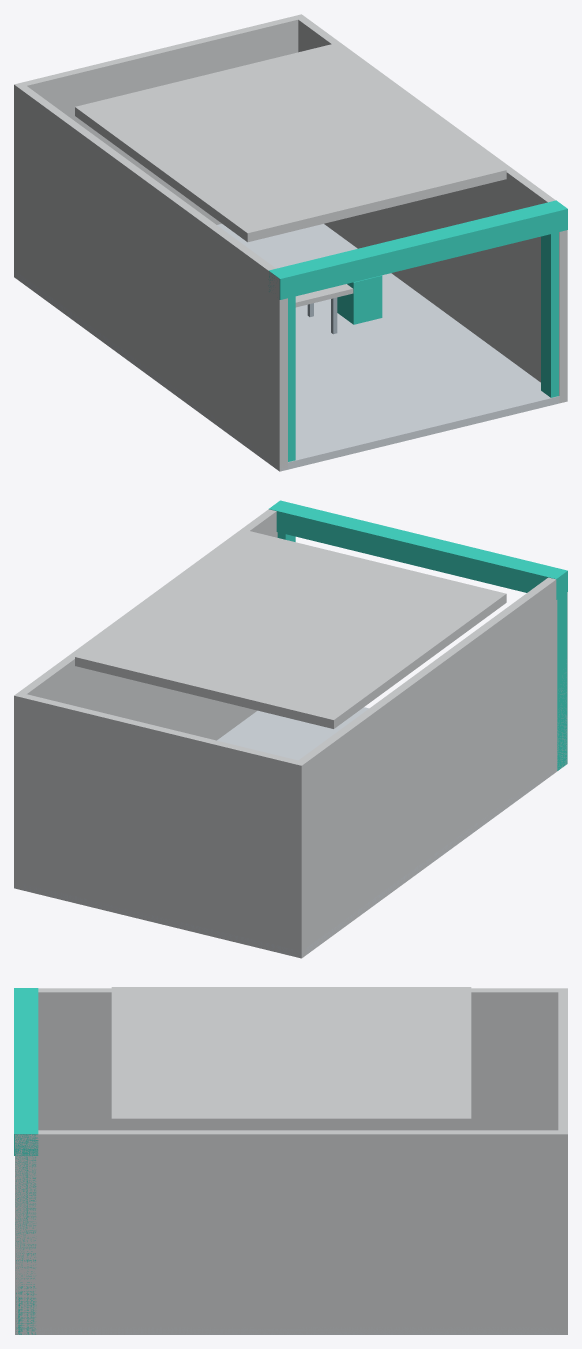
The picture shows the model from 3 angles, top to bottom: view 1: azimuth 30°, elevation 25°; view 2: azimuth 150°, elevation 25°; view 3: azimuth 270°, elevation 25°; orthographic projection. The views are drawn at different scales.
Visible parts, largest first — view 1: Exhibition Booth Concept; view 2: Exhibition Booth Concept; view 3: Exhibition Booth Concept.
Boxes of the visible parts, bbox=[...] form: Exhibition Booth Concept: bbox=[14, 14, 567, 471]; Exhibition Booth Concept: bbox=[14, 500, 567, 958]; Exhibition Booth Concept: bbox=[14, 987, 567, 1334].
Size of the model in its own units: 5 by 3.34 by 8.01.
